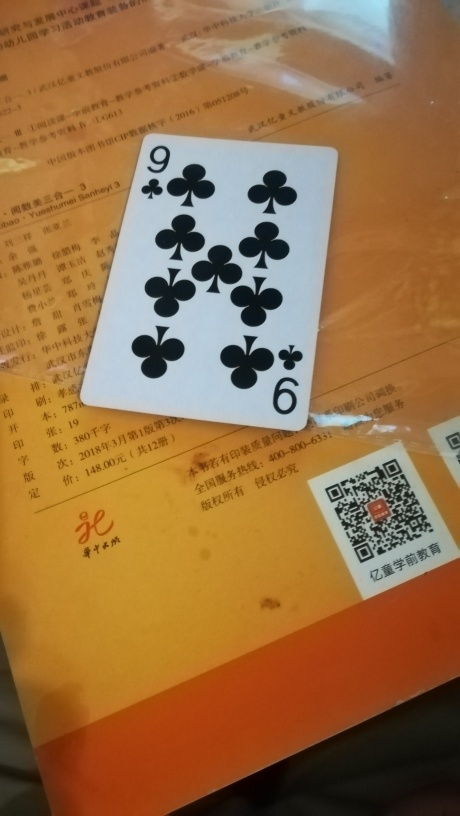mh 9: (75, 131, 340, 431)
